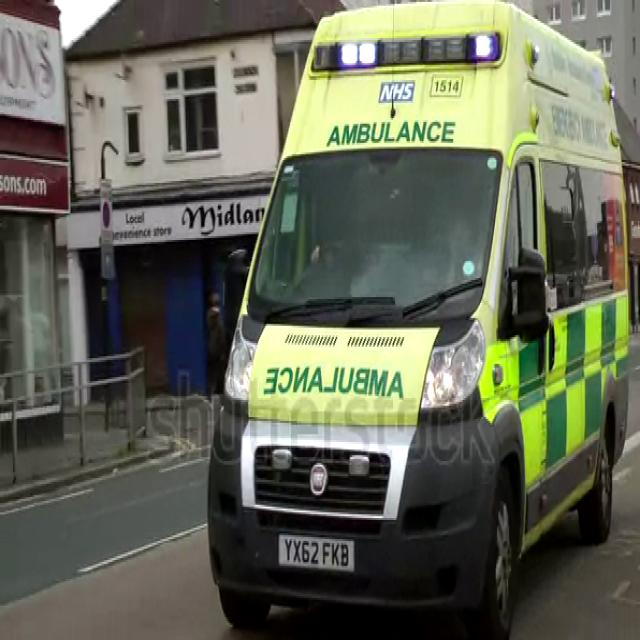ambulance: (207, 6, 627, 621)
